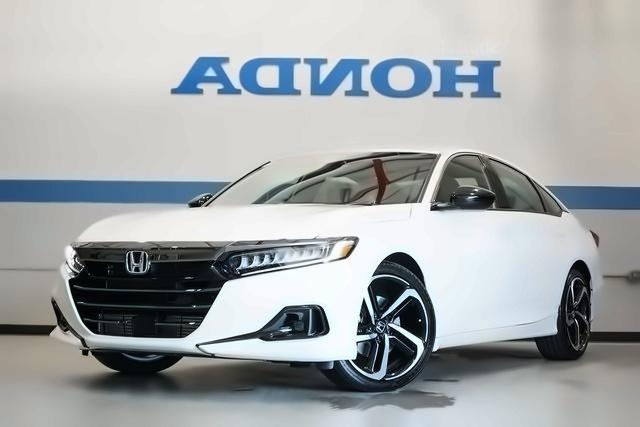Car hood: (69, 202, 416, 245)
Fender - -F-L-: (351, 200, 439, 339)
Fender - -R-L-: (554, 217, 598, 299)
Front bumper: (44, 259, 372, 370)
Headlight - -L-: (212, 233, 361, 285)
Headlight - -R-: (58, 241, 87, 283)
Passenger-s door - -F-L-: (440, 148, 513, 337)
Passenger-s door - -R-L-: (492, 148, 557, 336)
Rear light - -L-: (583, 218, 604, 251)
Side bumper - -L-: (426, 307, 562, 360)
Side mirror - -L-: (428, 182, 498, 220)
Side mirror - -R-: (185, 186, 219, 215)
